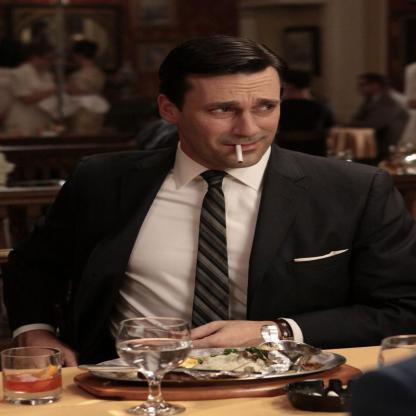cigarette: (233, 142, 246, 167)
person: (0, 35, 415, 337)
